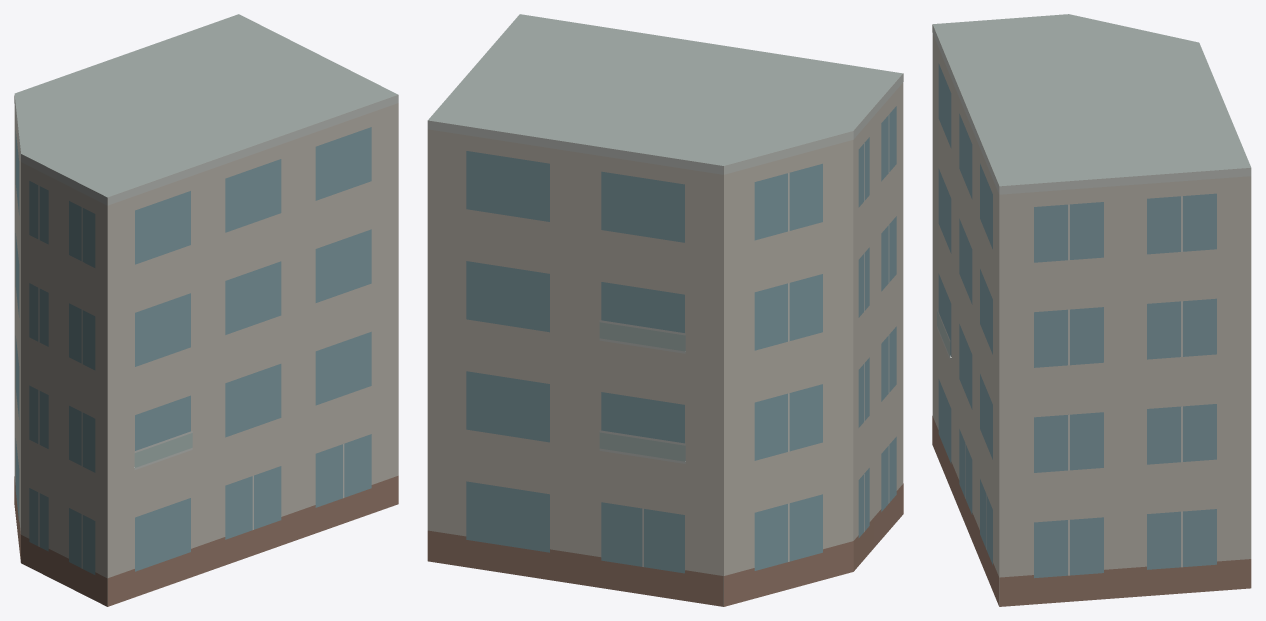
The model's file is residential-212ee4d0-00f7-42ff-8f1d-f56bb536358e.glb.
3 renders of one model, left to right at view 1: azimuth 30°, elevation 25°; view 2: azimuth 150°, elevation 25°; view 3: azimuth 270°, elevation 25°, orthographic. The views are drawn at different scales.
Parts seen in each view (by area): view 1: residential-212ee4d0-00f7-42ff-8f1d-f56bb536358e.tmp; view 2: residential-212ee4d0-00f7-42ff-8f1d-f56bb536358e.tmp; view 3: residential-212ee4d0-00f7-42ff-8f1d-f56bb536358e.tmp.
Part boxes in pixels (x1,y1,x2,y2): residential-212ee4d0-00f7-42ff-8f1d-f56bb536358e.tmp: (14,14,398,606); residential-212ee4d0-00f7-42ff-8f1d-f56bb536358e.tmp: (427,14,903,606); residential-212ee4d0-00f7-42ff-8f1d-f56bb536358e.tmp: (932,14,1251,606).
Bounding box in the file's own units: 10.73 × 12.2 × 8.39.
